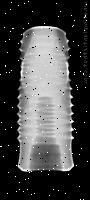Cowellmedi: (14, 25, 75, 172)
